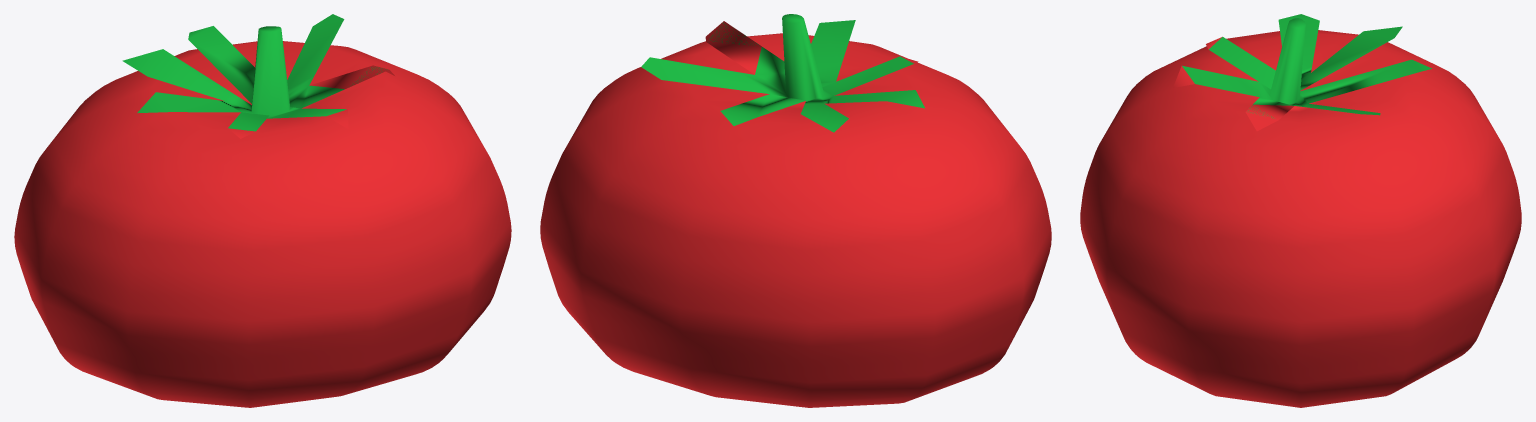
File: tomate.fbx
The picture shows the model from 3 angles, left to right: view 1: azimuth 30°, elevation 25°; view 2: azimuth 150°, elevation 25°; view 3: azimuth 270°, elevation 25°; orthographic projection. The views are drawn at different scales.
Visible parts, largest first — view 1: Cylinder.032; view 2: Cylinder.032; view 3: Cylinder.032.
Part boxes in pixels (box(x1,y1,x2,y2)): Cylinder.032: box(14, 14, 511, 407); Cylinder.032: box(540, 14, 1051, 407); Cylinder.032: box(1080, 14, 1521, 407).
Size of the model in its own units: 136 by 96.93 by 120.
